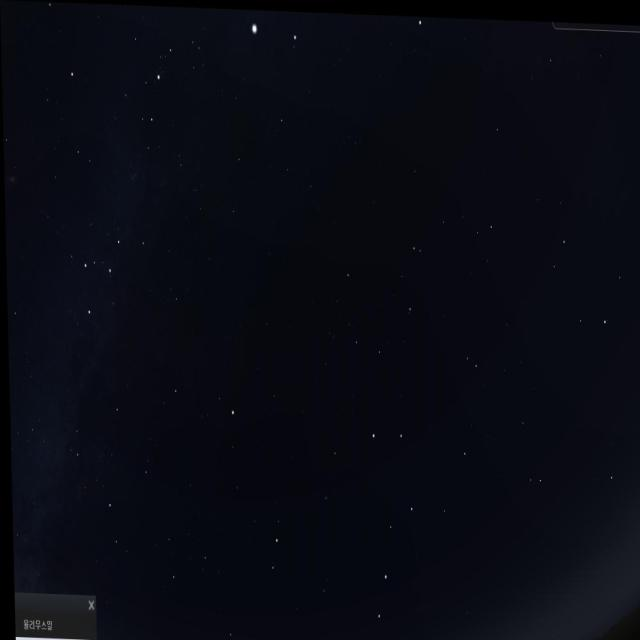ursa_major: (348, 392, 435, 640)
